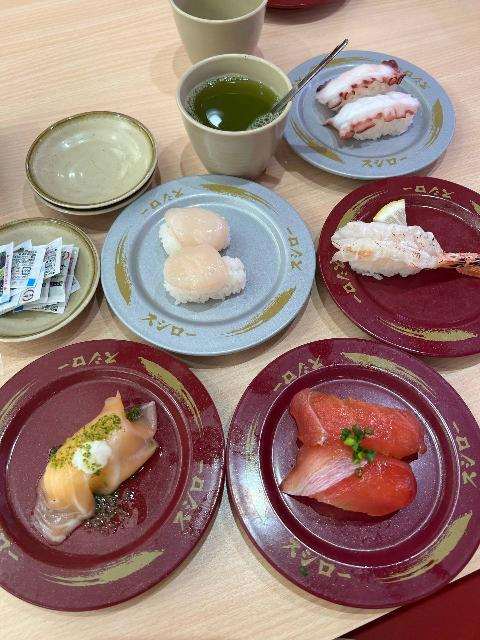janred: (206, 339, 474, 614), (16, 332, 229, 587), (340, 181, 480, 362)
janwhite: (114, 167, 333, 348), (279, 58, 457, 174)
